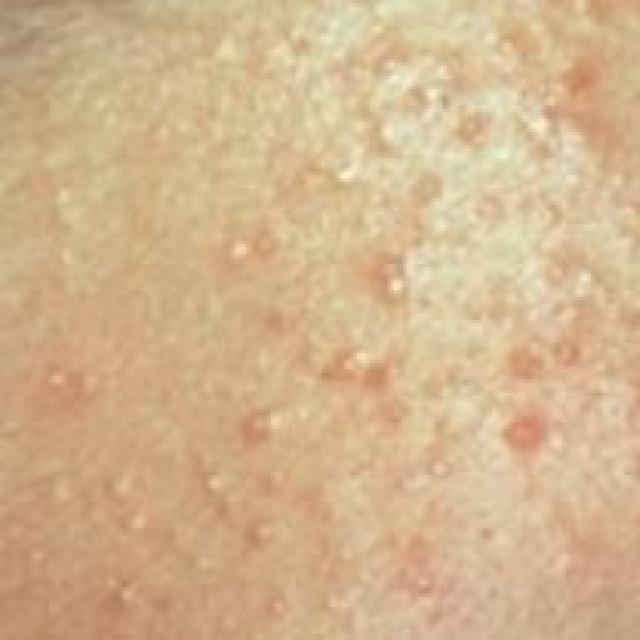fungal: (6, 28, 634, 633)
